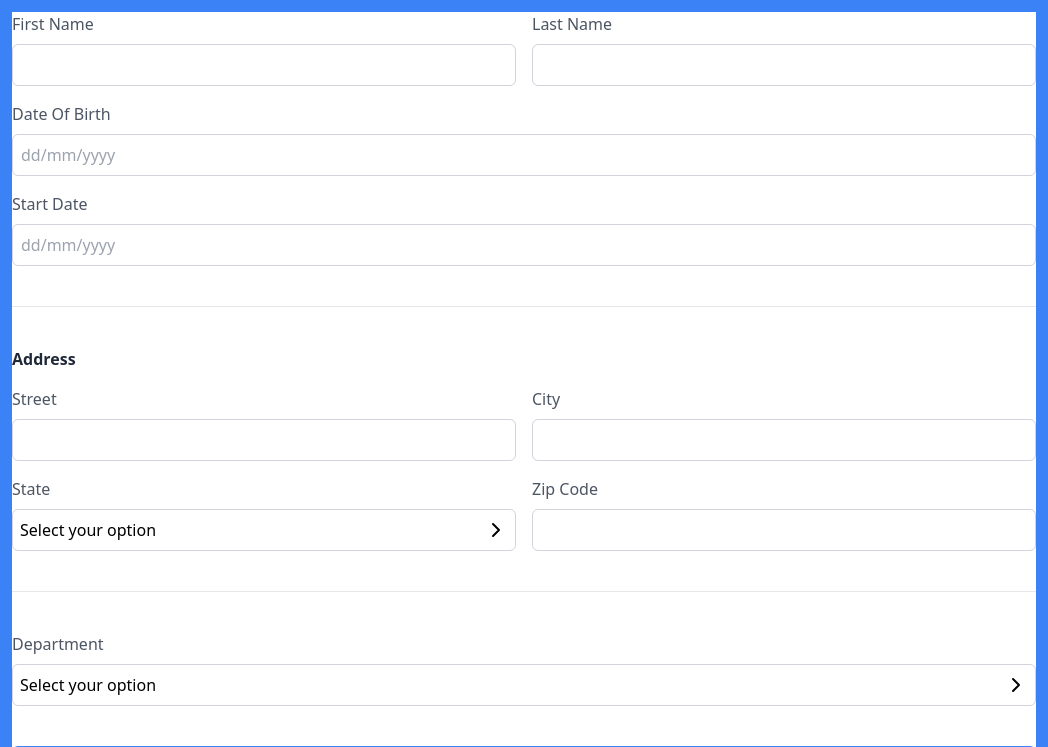
CreateEmployeeForm Component › CreateEmployeeFormInputNumber component › prevents non-numeric characters
In the number field labelled "Zip Code": (784, 530) [532,509,1036,551], type "abc12"
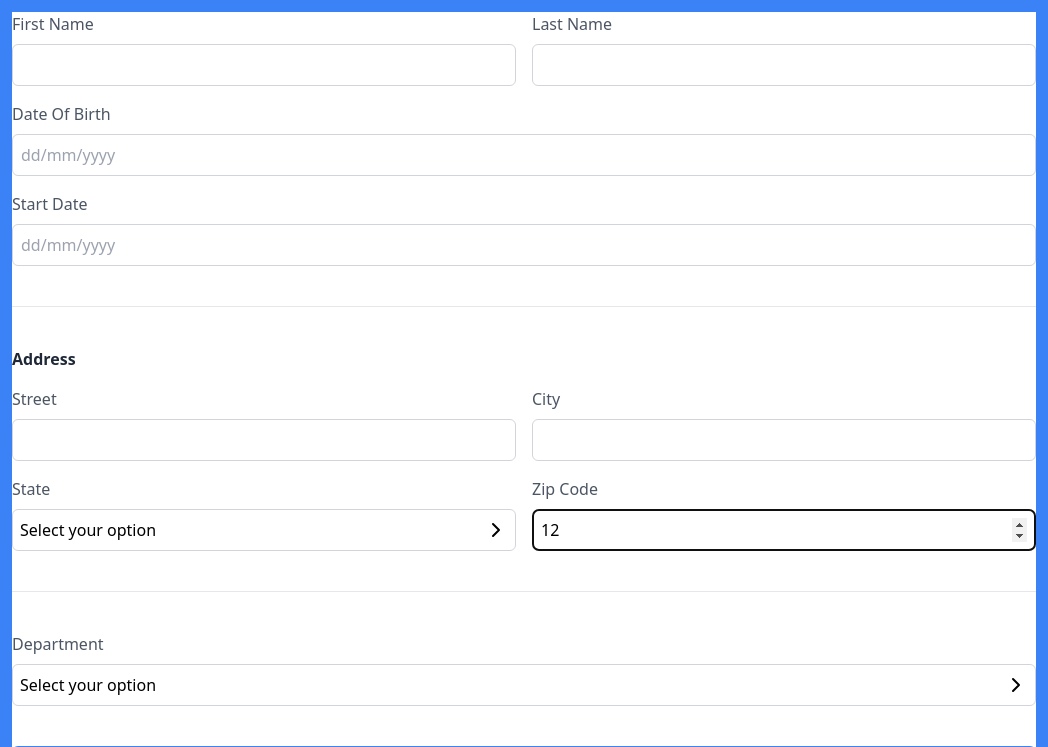
Now the number field labelled "Zip Code" holds "12", box [532,509,1036,551]
